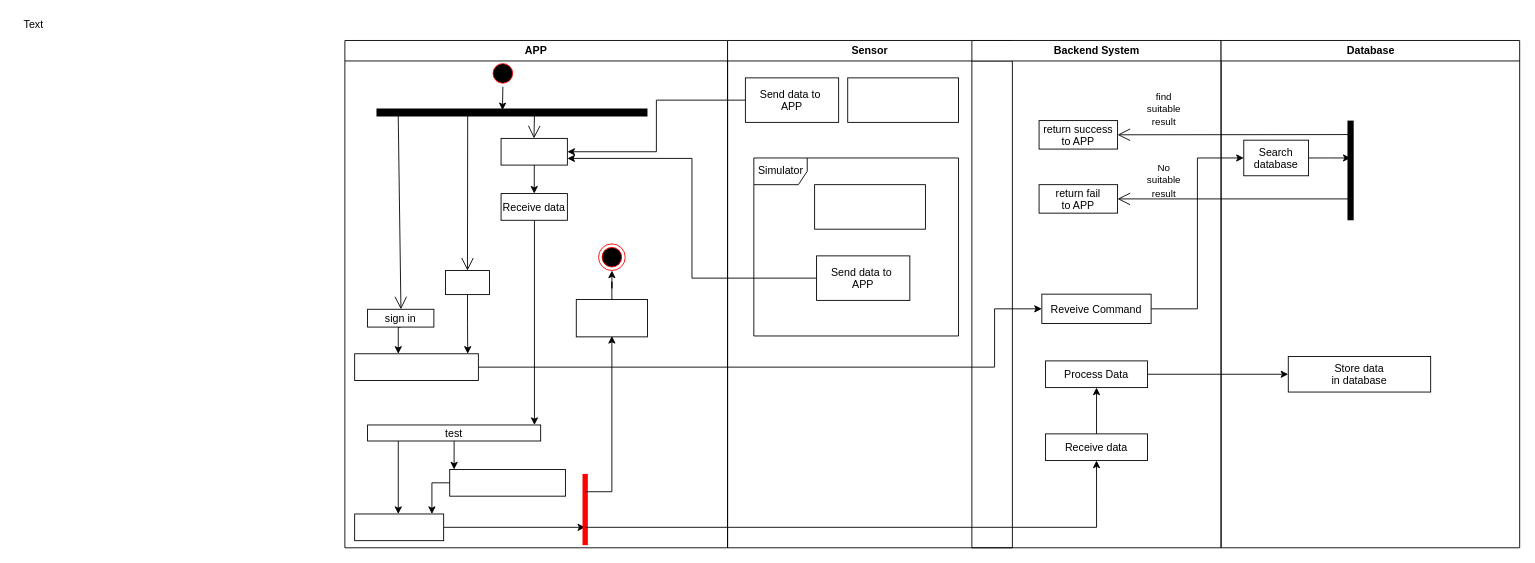
Some shapes in this 1535 by 563 pixel diagram are drawn without their labels. The centre of each missing label's shape, as x and y in pixels:
"Collect environmetal data" goes at (x=903, y=99).
"Connect to Sensor" goes at (x=533, y=151).
"log in" goes at (x=467, y=282).
"Predict Comfort level (machine learning)" goes at (x=507, y=482).
"Receive Command" goes at (x=416, y=366).
"Send data" goes at (x=399, y=527).
"Show results" goes at (x=611, y=318).
"Simulate environmetal data" goes at (x=869, y=206).
